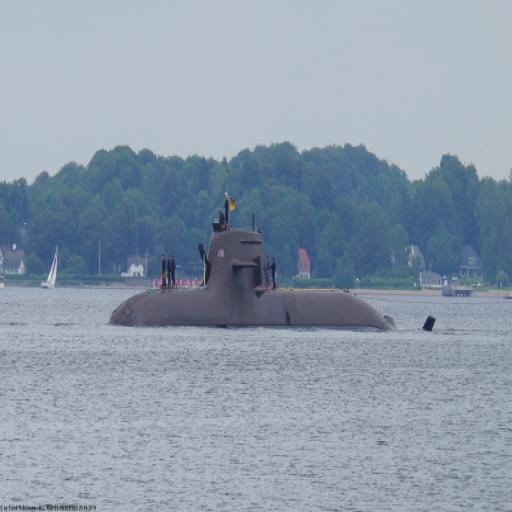submarine: (107, 227, 436, 329)
